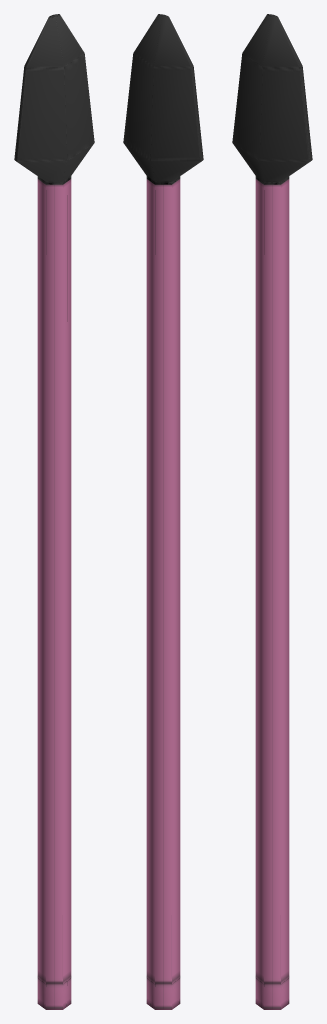
The model's file is spear_model.dae.
The picture shows the model from 3 angles, left to right: view 1: azimuth 30°, elevation 25°; view 2: azimuth 150°, elevation 25°; view 3: azimuth 330°, elevation 25°; orthographic projection.
Visible parts, largest first — view 1: Cylinder; view 2: Cylinder; view 3: Cylinder.
Boxes of the visible parts, x1,y1,x2,y2 form: Cylinder: (14, 14, 94, 1009); Cylinder: (123, 14, 203, 1009); Cylinder: (232, 14, 312, 1009).
Bounding box in the file's own units: 0.4155 × 0.238 × 5.03.
1 material, 1 textured.
